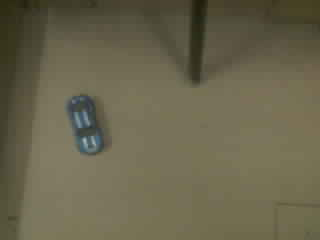Car: (67, 95, 102, 154)
